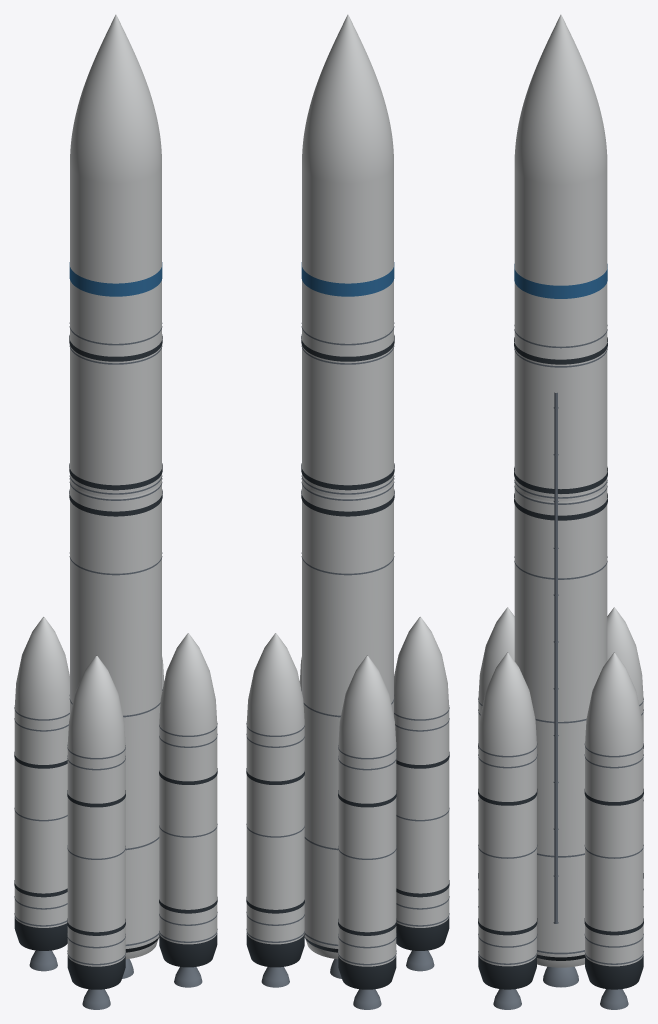
File: ariane64.glb
3 renders of one model, left to right at view 1: azimuth 30°, elevation 25°; view 2: azimuth 150°, elevation 25°; view 3: azimuth 270°, elevation 25°, orthographic.
Parts seen in each view (by area): view 1: Main cryogenic stage, Twenty metre payload fairing, Upper stage shroud, P120C motor 1, P120C motor 2, P120C motor 3, Booster ogive 1, Booster ogive 2, Booster ogive 3, Interstage composite ring (×3), European blue identification band, Booster aft skirt 1 (+5 smaller); view 2: Main cryogenic stage, Twenty metre payload fairing, Upper stage shroud, P120C motor 4, P120C motor 3, P120C motor 2, Booster ogive 4, Booster ogive 3, Booster ogive 2, Interstage composite ring (×3), European blue identification band, Booster aft skirt 4 (+5 smaller); view 3: Main cryogenic stage, Twenty metre payload fairing, Upper stage shroud, P120C motor 1, P120C motor 4, Booster ogive 1, Booster ogive 4, Core external service conduit, Booster ogive 2, Booster ogive 3, Interstage composite ring (×3), Booster aft skirt 1 (+5 smaller).
Boxes of the visible parts, bbox=[...] form: Main cryogenic stage: bbox=[70, 480, 161, 959]; Twenty metre payload fairing: bbox=[70, 14, 161, 342]; Upper stage shroud: bbox=[70, 326, 161, 497]; P120C motor 1: bbox=[159, 724, 217, 944]; P120C motor 2: bbox=[67, 747, 125, 966]; P120C motor 3: bbox=[14, 708, 69, 927]; Booster ogive 1: bbox=[159, 633, 217, 735]; Booster ogive 2: bbox=[67, 655, 125, 757]; Booster ogive 3: bbox=[14, 617, 69, 718]; Interstage composite ring (×3): bbox=[69, 334, 162, 516]; European blue identification band: bbox=[69, 262, 162, 296]; Booster aft skirt 1: bbox=[159, 933, 217, 967]; Main cryogenic stage: bbox=[302, 480, 393, 959]; Twenty metre payload fairing: bbox=[302, 14, 393, 342]; Upper stage shroud: bbox=[302, 326, 393, 497]; P120C motor 4: bbox=[246, 724, 304, 944]; P120C motor 3: bbox=[338, 747, 396, 966]; P120C motor 2: bbox=[394, 708, 449, 927]; Booster ogive 4: bbox=[246, 633, 304, 735]; Booster ogive 3: bbox=[338, 655, 396, 757]; Booster ogive 2: bbox=[394, 617, 449, 718]; Interstage composite ring (×3): bbox=[301, 334, 394, 516]; European blue identification band: bbox=[301, 262, 394, 296]; Booster aft skirt 4: bbox=[246, 933, 304, 967]; Main cryogenic stage: bbox=[514, 484, 607, 967]; Twenty metre payload fairing: bbox=[514, 14, 607, 345]; Upper stage shroud: bbox=[514, 328, 607, 501]; P120C motor 1: bbox=[478, 744, 536, 966]; P120C motor 4: bbox=[585, 744, 643, 966]; Booster ogive 1: bbox=[478, 652, 536, 755]; Booster ogive 4: bbox=[585, 652, 643, 755]; Core external service conduit: bbox=[554, 392, 557, 922]; Booster ogive 2: bbox=[478, 607, 514, 704]; Booster ogive 3: bbox=[607, 607, 643, 704]; Interstage composite ring (×3): bbox=[514, 337, 607, 520]; Booster aft skirt 1: bbox=[478, 955, 536, 989].
Size of the model in its own units: 9.63 by 62 by 9.63.
